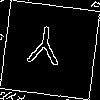Y: (24, 24, 64, 75)
